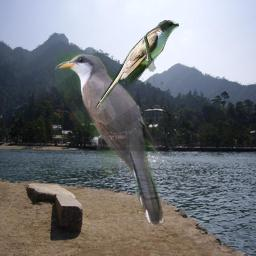Cuckoo: (55, 51, 168, 229), (95, 20, 179, 109)
